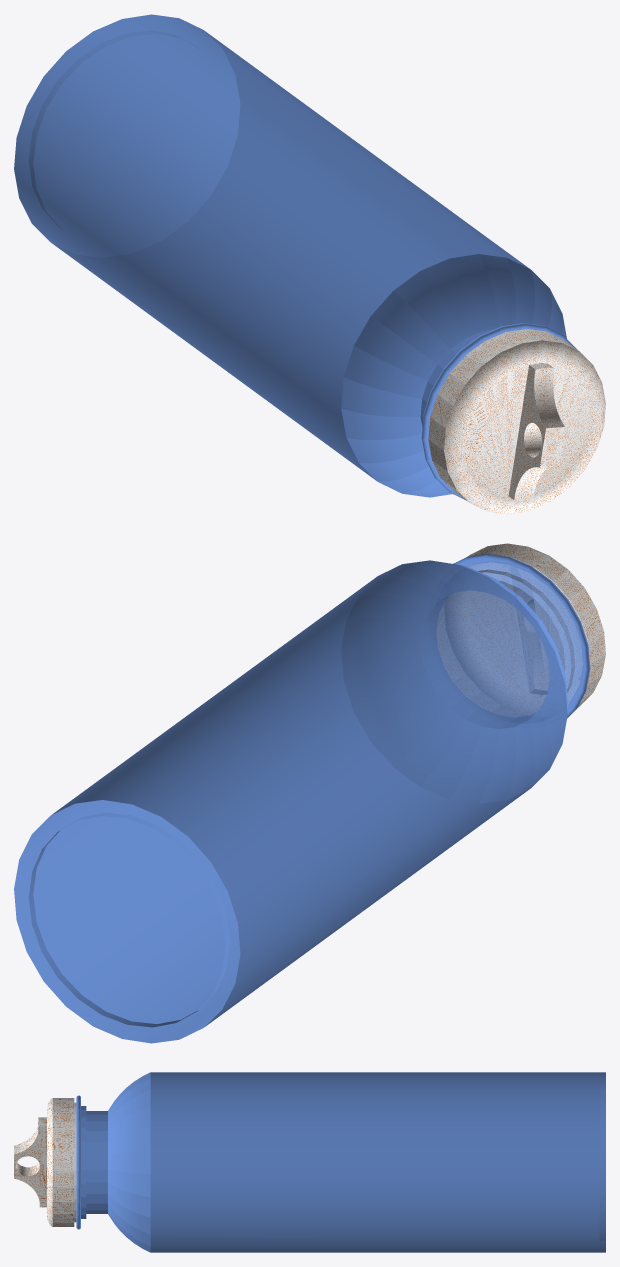
Rendered from model_align.obj.
3 views of the same model, one above another, from view 1: azimuth 30°, elevation 25°; view 2: azimuth 150°, elevation 25°; view 3: azimuth 270°, elevation 25° (orthographic). The views are drawn at different scales.
Visible parts, largest first — view 1: mesh1_mesh1-geometry; view 2: mesh1_mesh1-geometry; view 3: mesh1_mesh1-geometry.
Boxes of the visible parts, bbox=[...] form: mesh1_mesh1-geometry: bbox=[14, 14, 605, 514]; mesh1_mesh1-geometry: bbox=[14, 543, 605, 1043]; mesh1_mesh1-geometry: bbox=[14, 1072, 605, 1252].
Bounding box in the file's own units: 0.0721 × 0.0721 × 0.2346.
